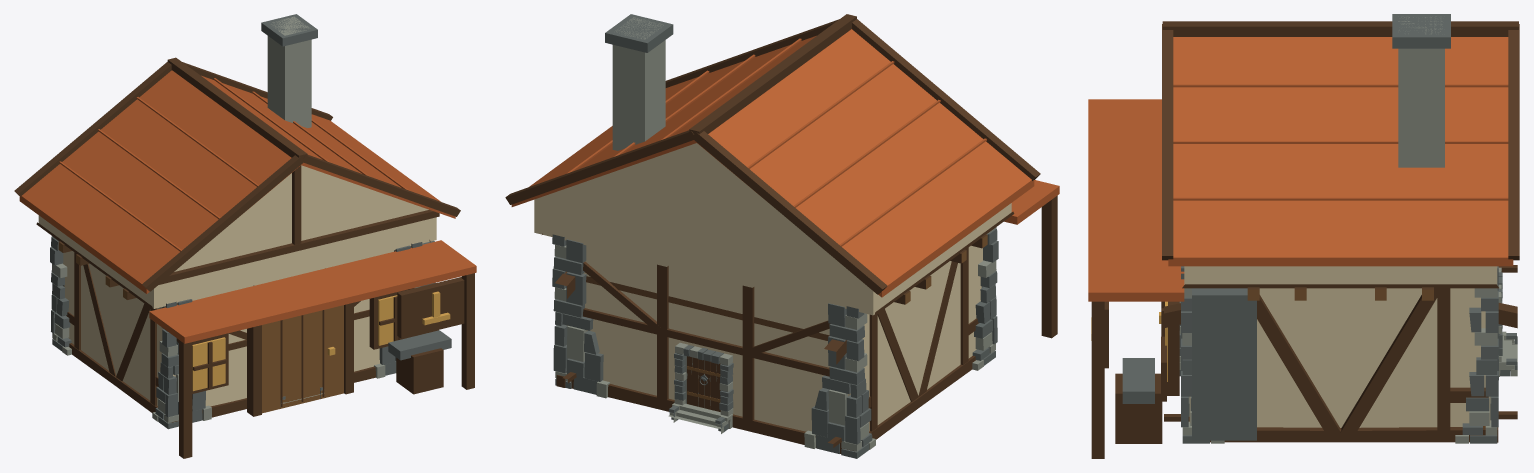
Rendered from weapon_shop.glb.
3 views of the same model, side by side, from view 1: azimuth 30°, elevation 25°; view 2: azimuth 150°, elevation 25°; view 3: azimuth 270°, elevation 25° (orthographic). The views are drawn at different scales.
Visible parts, largest first — view 1: weapon_shop; view 2: weapon_shop; view 3: weapon_shop.
Boxes of the visible parts, box(x1,y1,x2,y2) form: weapon_shop: box(14, 14, 476, 458); weapon_shop: box(505, 14, 1059, 458); weapon_shop: box(1088, 14, 1519, 458).
Size of the model in its own units: 8 by 7 by 7.
